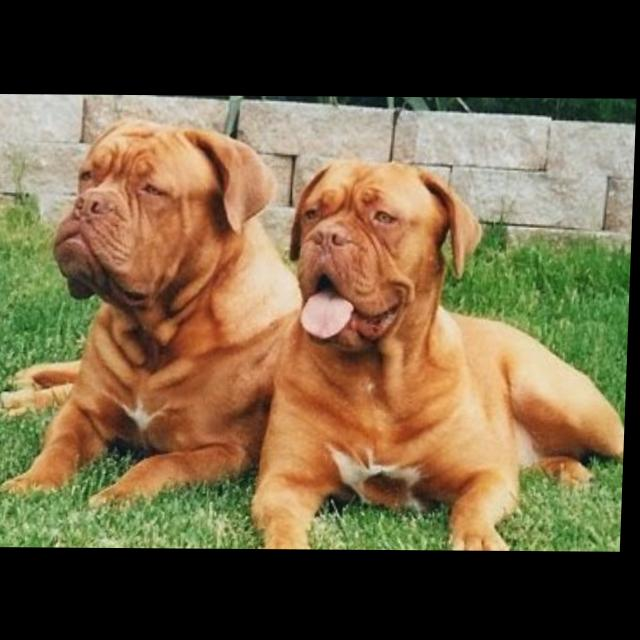dogue_de_bordeaux: (254, 157, 636, 551), (1, 117, 314, 511)
